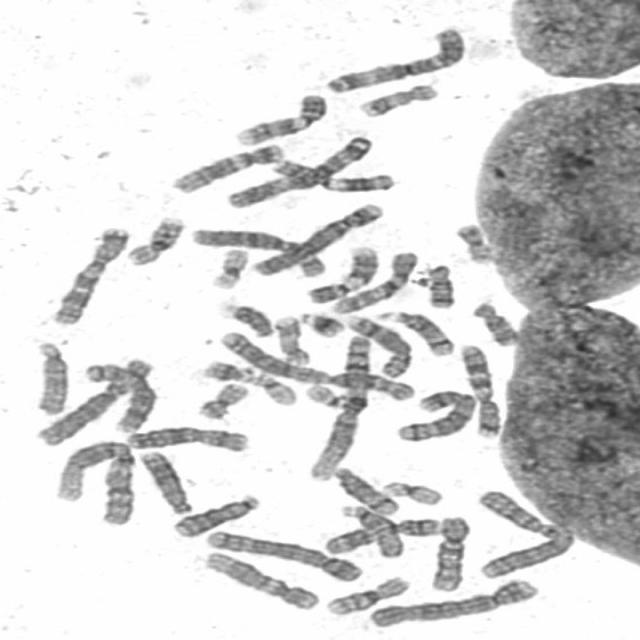A1: (299, 329, 375, 483), (48, 434, 139, 527)
A2: (212, 325, 418, 403), (468, 483, 577, 580)
A3: (220, 129, 378, 210), (319, 21, 471, 94)
B4: (244, 197, 388, 278), (362, 574, 543, 630)
B5: (198, 525, 366, 583), (390, 384, 481, 442)
C10: (324, 245, 423, 314), (423, 509, 474, 594)
C11: (318, 512, 444, 555), (265, 153, 399, 193)
C12: (197, 545, 322, 612), (165, 138, 289, 195)
C6: (29, 353, 158, 447), (185, 222, 329, 278)
C7: (43, 220, 134, 326), (451, 338, 504, 439)
C8: (77, 357, 161, 434), (338, 309, 417, 380)
C9: (228, 88, 330, 146), (300, 240, 383, 305)
D13: (166, 489, 264, 539), (132, 445, 196, 515)
D14: (372, 306, 457, 358), (327, 462, 402, 516)
D15: (335, 499, 408, 559), (26, 335, 72, 417)
E16: (319, 570, 412, 616), (120, 210, 189, 266)
E17: (352, 78, 441, 119), (268, 310, 313, 367)
E18: (465, 296, 522, 347), (418, 258, 458, 310)
F19: (204, 242, 252, 290), (376, 476, 447, 507)
F20: (191, 377, 252, 421), (449, 217, 496, 265)
G21: (292, 306, 348, 339), (196, 355, 258, 384)
G22: (247, 368, 300, 406), (298, 378, 353, 410)
X: (118, 420, 252, 452)
Y: (216, 297, 277, 338)
